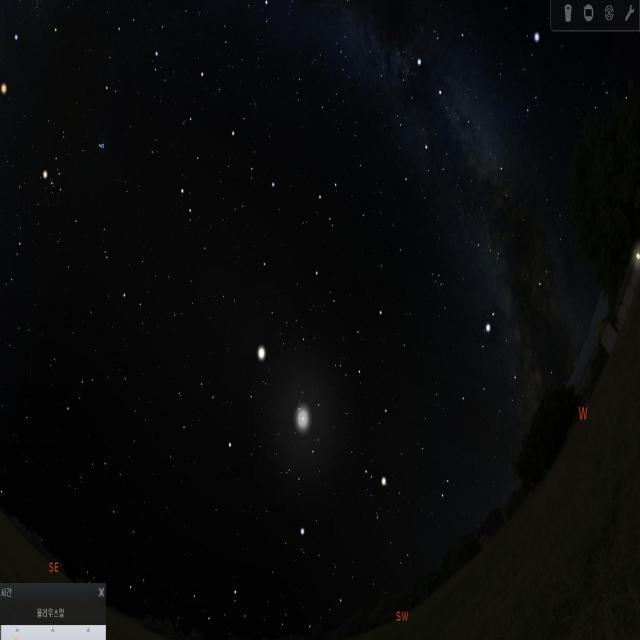aquila: (459, 315, 538, 445)
cygnus: (415, 22, 510, 179)
lyra: (519, 28, 547, 110)
moon: (284, 385, 320, 456)
pleiades: (90, 129, 116, 165)
taurus: (35, 113, 110, 234)
